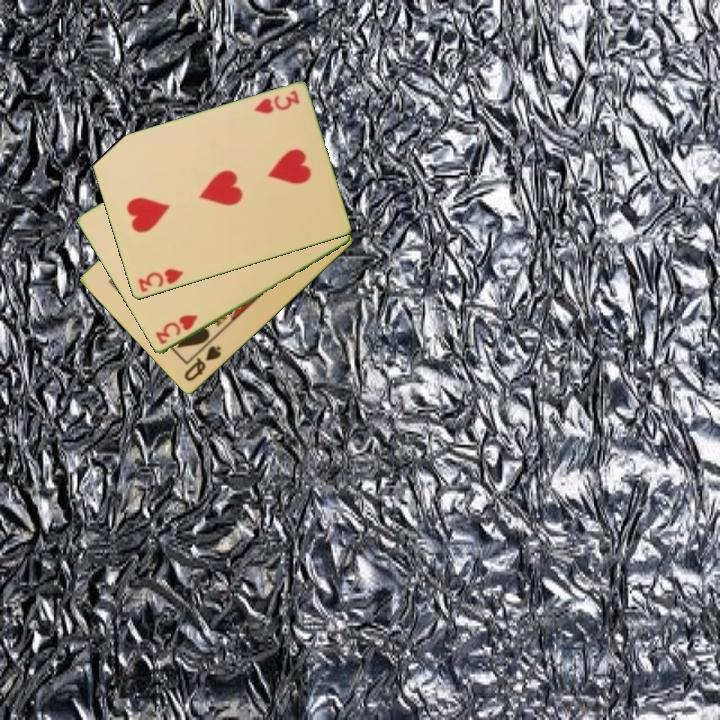3h: (151, 311, 201, 348), (134, 265, 186, 296), (250, 87, 302, 117)
Qs: (180, 342, 224, 385)
